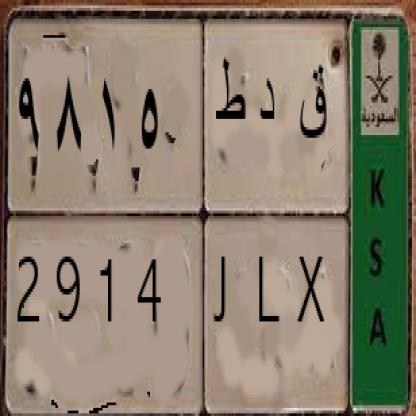english: (5, 210, 348, 398)
